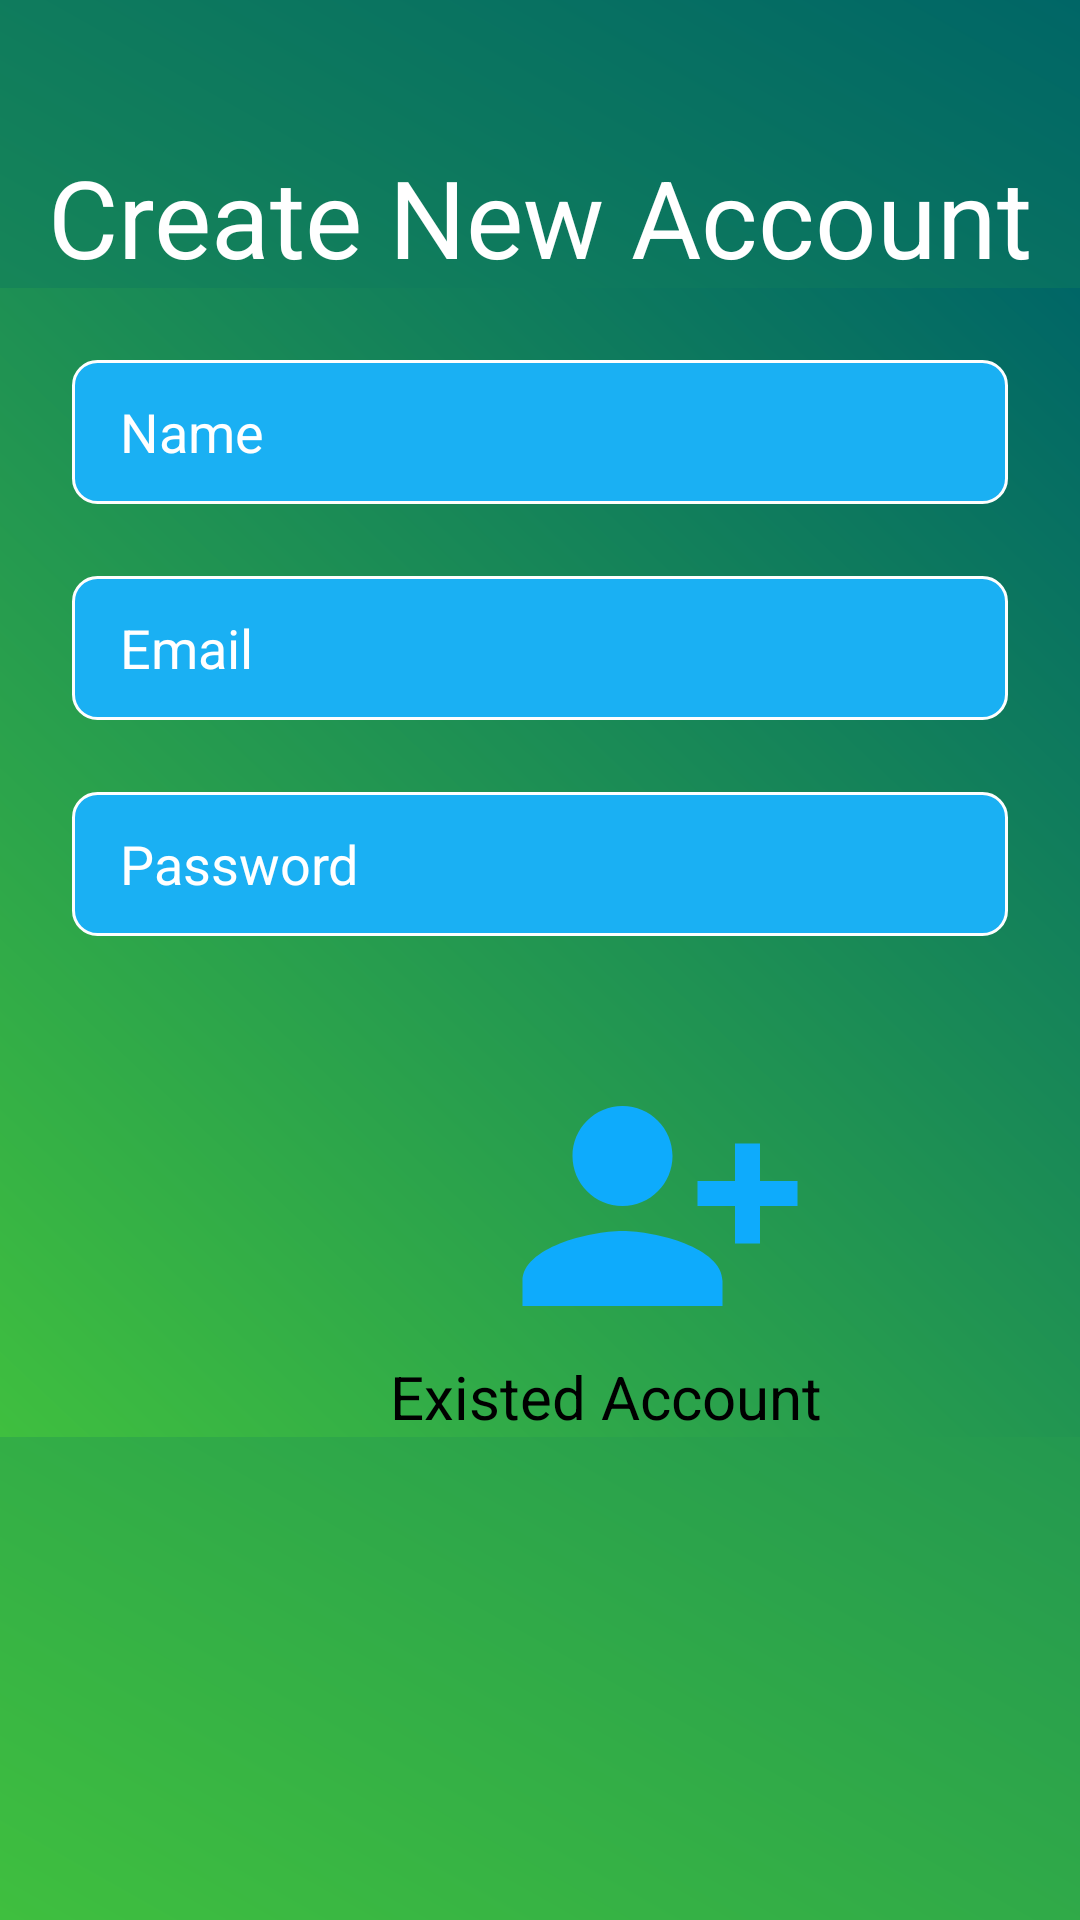

Where to tap for icons on this 1080px×1920px app screen, as [x,y]:
signup: [662,1195]
